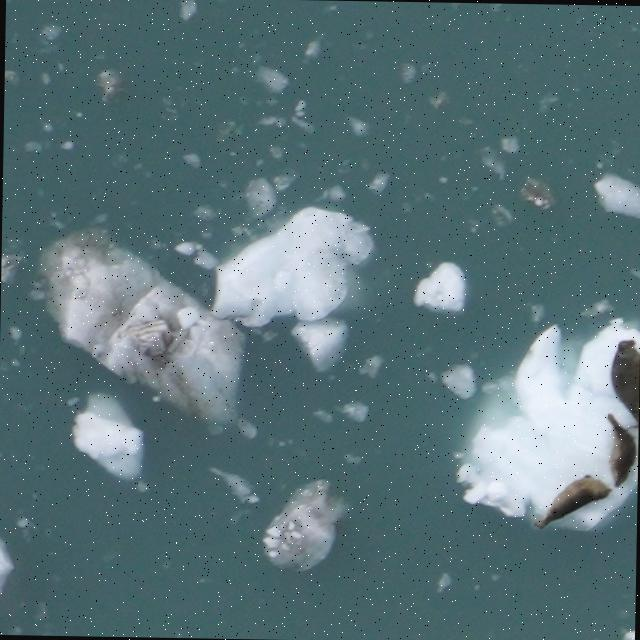seal: (530, 470, 615, 531), (607, 334, 638, 437), (599, 409, 638, 488)
